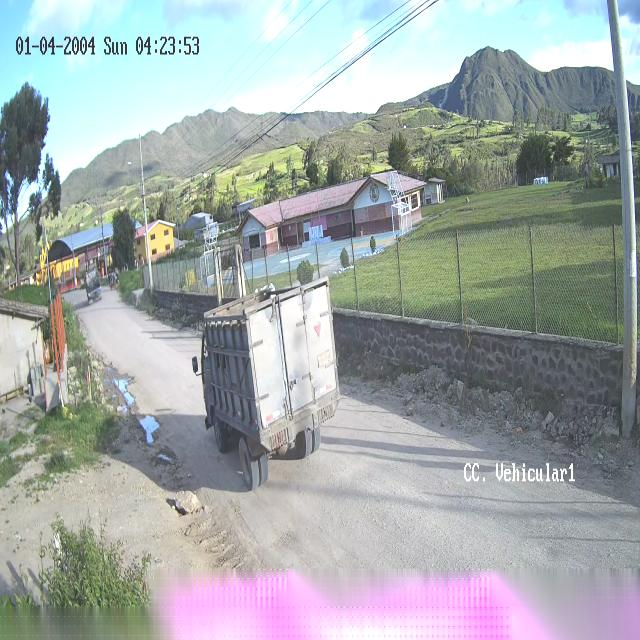TRUCK: (196, 277, 339, 491)
